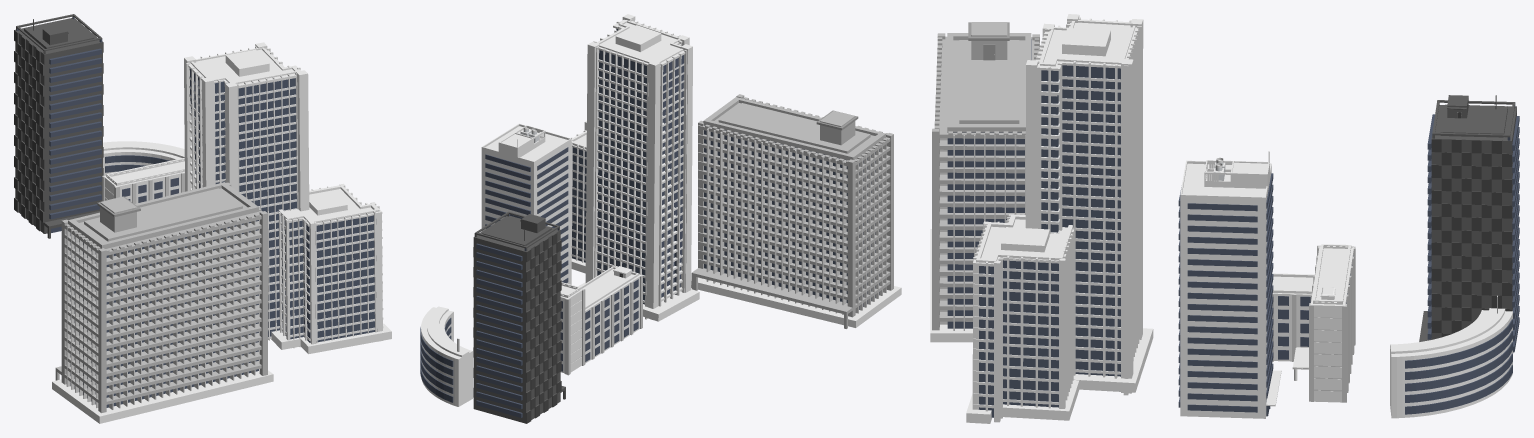
Rendered from build.glb.
The picture shows the model from 3 angles, left to right: view 1: azimuth 30°, elevation 25°; view 2: azimuth 150°, elevation 25°; view 3: azimuth 270°, elevation 25°; orthographic projection. The views are drawn at different scales.
Parts seen in each view (by area): view 1: group33 pasted__pasted__pasted__pasted__group12 pasted__past, 立方体.003, 立方体.007, 立方体.005, 立方体.002, 立方体, 立方体.004, 立方体.006, 立方体.001, 立方体.014, 立方体.020, 立方体.038 (+2 smaller); view 2: group33 pasted__pasted__pasted__pasted__group12 pasted__past, 立方体.007, 立方体.003, 立方体.005, Group_001, 立方体.002, 立方体.001, 立方体.020, 立方体.004, 立方体, 立方体.006, 立方体.013 (+4 smaller); view 3: group33 pasted__pasted__pasted__pasted__group12 pasted__past, Group_001, 立方体.007, 立方体.002, 立方体.003, 立方体.001, 立方体.040, 立方体.014, 立方体.038, 立方体.020, 立方体.013, 立方体.004 (+3 smaller).
Part boxes in pixels (left/top/right/bottom): group33 pasted__pasted__pasted__pasted__group12 pasted__past: left=184, top=42, right=391, bottom=354; 立方体.003: left=55, top=208, right=262, bottom=404; 立方体.007: left=14, top=14, right=103, bottom=238; 立方体.005: left=109, top=220, right=255, bottom=409; 立方体.002: left=68, top=182, right=258, bottom=248; 立方体: left=61, top=182, right=267, bottom=413; 立方体.004: left=66, top=228, right=98, bottom=408; 立方体.006: left=52, top=369, right=273, bottom=423; 立方体.001: left=70, top=220, right=258, bottom=407; 立方体.014: left=104, top=158, right=184, bottom=203; 立方体.020: left=102, top=172, right=184, bottom=203; 立方体.038: left=103, top=141, right=184, bottom=175; group33 pasted__pasted__pasted__pasted__group12 pasted__past: left=571, top=14, right=699, bottom=321; 立方体.007: left=473, top=211, right=565, bottom=423; 立方体.003: left=691, top=97, right=890, bottom=328; 立方体.005: left=706, top=128, right=846, bottom=314; Group_001: left=481, top=123, right=571, bottom=284; 立方体.002: left=703, top=97, right=885, bottom=160; 立方体.001: left=704, top=125, right=879, bottom=309; 立方体.020: left=560, top=275, right=642, bottom=375; 立方体.004: left=855, top=144, right=886, bottom=313; 立方体: left=698, top=94, right=893, bottom=317; 立方体.006: left=691, top=277, right=901, bottom=327; 立方体.013: left=580, top=266, right=641, bottom=363; group33 pasted__pasted__pasted__pasted__group12 pasted__past: left=966, top=14, right=1153, bottom=423; Group_001: left=1178, top=151, right=1281, bottom=418; 立方体.007: left=1419, top=95, right=1519, bottom=352; 立方体.002: left=947, top=22, right=1031, bottom=132; 立方体.003: left=934, top=36, right=1039, bottom=321; 立方体.001: left=947, top=39, right=1031, bottom=328; 立方体.040: left=1405, top=319, right=1512, bottom=414; 立方体.014: left=1310, top=244, right=1353, bottom=402; 立方体.038: left=1390, top=310, right=1512, bottom=418; 立方体.020: left=1272, top=245, right=1355, bottom=402; 立方体.013: left=1272, top=273, right=1313, bottom=361; 立方体.004: left=953, top=135, right=1025, bottom=330.
Bounding box in the file's own units: 13.34 × 11.3 × 17.92.
